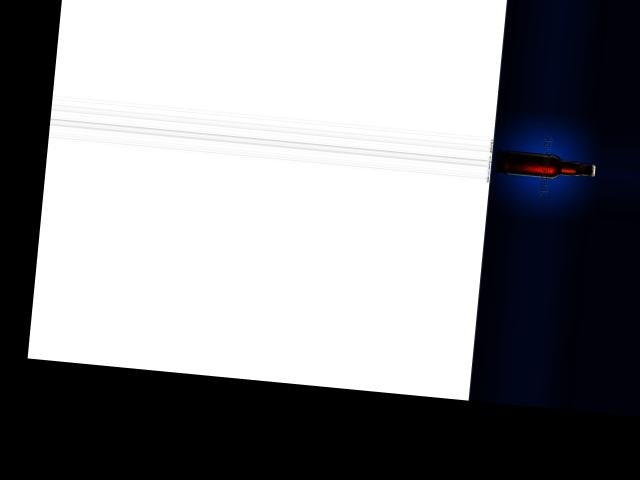beer: (501, 149, 597, 182)
